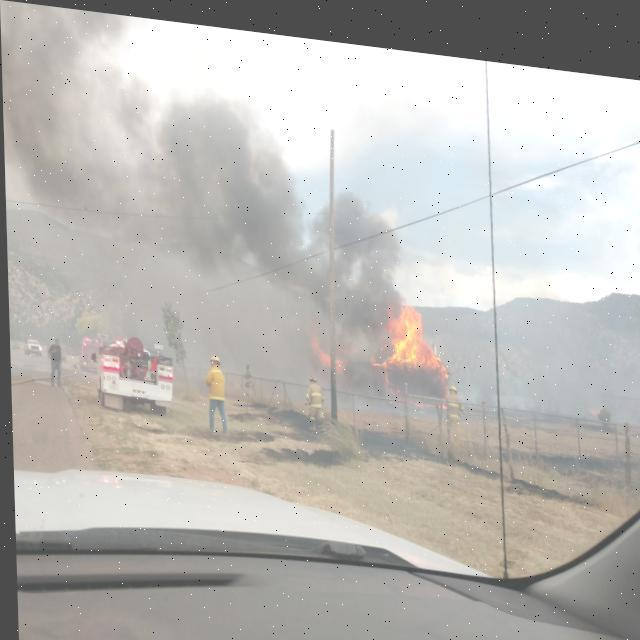Fire: (306, 266, 456, 396)
